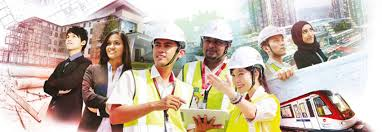hard hat: (226, 46, 265, 69), (200, 19, 232, 41), (152, 24, 186, 42), (258, 25, 285, 47)
high-vis: (121, 69, 194, 132), (183, 58, 236, 132), (227, 90, 280, 132)
